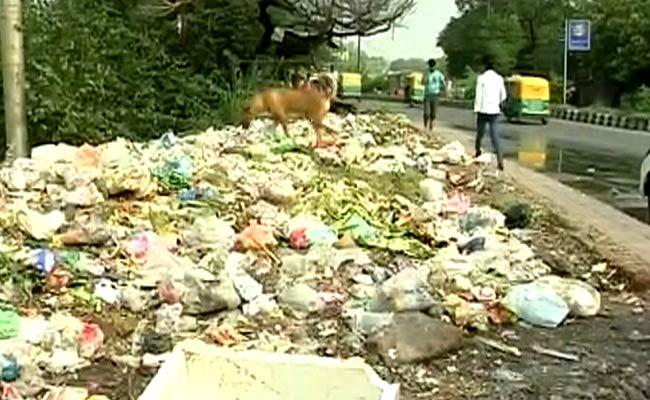Garbage: (124, 151, 328, 308), (144, 146, 311, 236), (54, 214, 201, 291), (162, 172, 314, 228), (15, 272, 100, 371), (163, 267, 269, 342), (30, 190, 119, 260), (451, 301, 549, 354), (99, 306, 193, 352), (526, 274, 614, 316), (369, 172, 431, 231), (571, 285, 637, 328), (425, 191, 483, 239), (229, 323, 299, 362), (513, 284, 578, 316), (0, 346, 37, 398), (504, 196, 544, 238), (437, 169, 487, 202), (44, 160, 101, 184), (255, 134, 291, 161)
